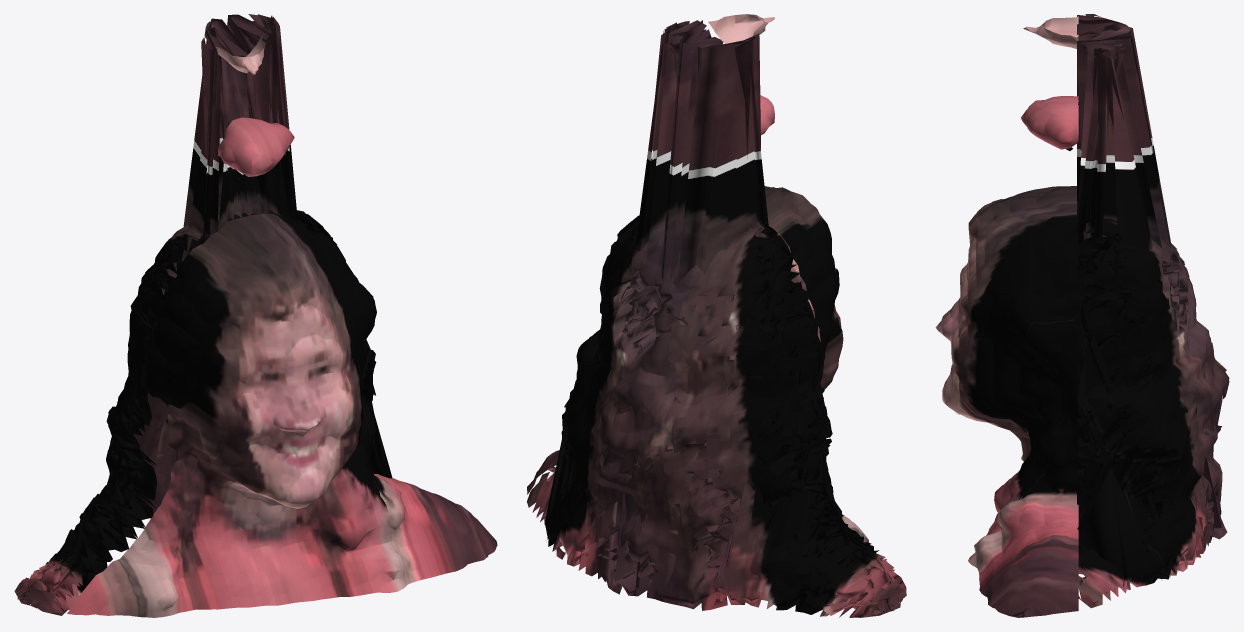
The model's file is image_mesh_try.obj.
The picture shows the model from 3 angles, left to right: view 1: azimuth 30°, elevation 25°; view 2: azimuth 150°, elevation 25°; view 3: azimuth 270°, elevation 25°; orthographic projection. The views are drawn at different scales.
Bounding box in the file's own units: 52.19 × 63 × 34.29.
1 material, 1 textured.
